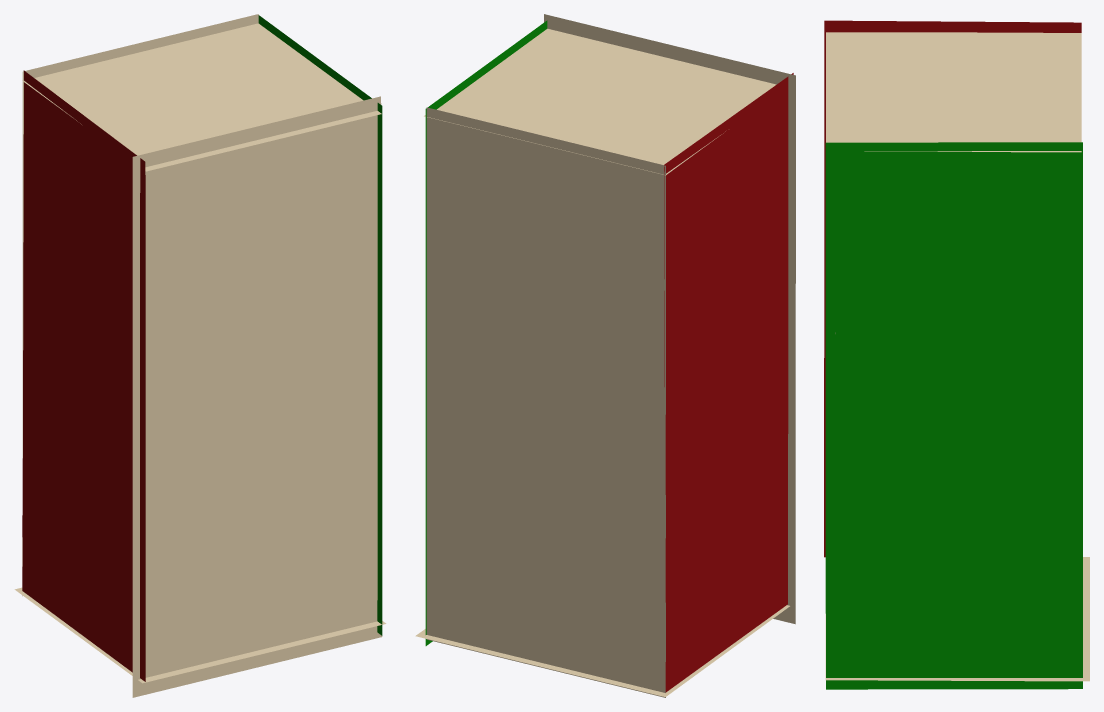
The model's file is map.dae.
3 views of the same model, side by side, from view 1: azimuth 30°, elevation 25°; view 2: azimuth 150°, elevation 25°; view 3: azimuth 270°, elevation 25° (orthographic). The views are drawn at different scales.
Parts seen in each view (by area): view 1: floor, right_wall, front_wall, left_wall, ceiling, back_wall; view 2: ceiling, right_wall, front_wall, floor, left_wall, back_wall; view 3: left_wall, front_wall, right_wall, back_wall.
Boxes of the visible parts, x1=… form: floor: x1=132, y1=96, x2=382, y2=697; right_wall: x1=22, y1=70, x2=145, y2=681; front_wall: x1=23, y1=23, x2=381, y2=171; left_wall: x1=258, y1=15, x2=382, y2=635; ceiling: x1=22, y1=14, x2=258, y2=596; back_wall: x1=14, y1=587, x2=386, y2=683; ceiling: x1=426, y1=107, x2=665, y2=697; right_wall: x1=664, y1=73, x2=793, y2=692; front_wall: x1=424, y1=28, x2=776, y2=175; floor: x1=544, y1=14, x2=795, y2=624; left_wall: x1=425, y1=20, x2=547, y2=645; back_wall: x1=415, y1=605, x2=789, y2=696; left_wall: x1=825, y1=142, x2=1082, y2=689; front_wall: x1=826, y1=32, x2=1081, y2=152; right_wall: x1=824, y1=20, x2=1081, y2=557; back_wall: x1=825, y1=557, x2=1089, y2=681.
Bounding box in the file's own units: 5.34 × 4.73 × 10.96.
